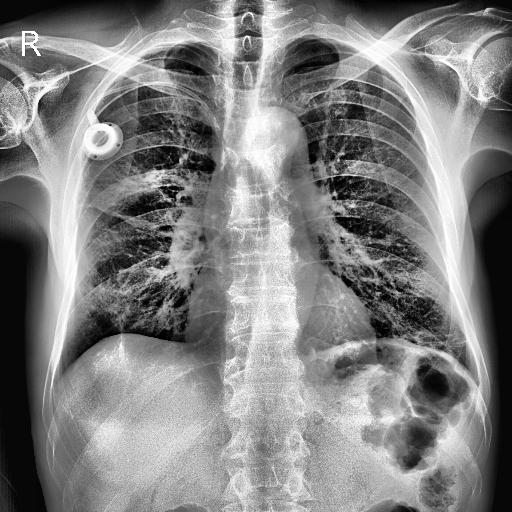0- Aortic enlargement: (246, 109, 313, 178), (242, 105, 310, 169)
11- Pleural thickening: (132, 41, 202, 63), (300, 35, 348, 46)
13- Pulmonary fibrosis: (72, 150, 206, 344), (80, 168, 166, 236), (80, 168, 166, 208), (94, 206, 162, 232), (404, 328, 474, 352), (406, 326, 470, 348), (406, 328, 468, 350), (110, 306, 130, 358)
5- ILD: (72, 150, 206, 344)
